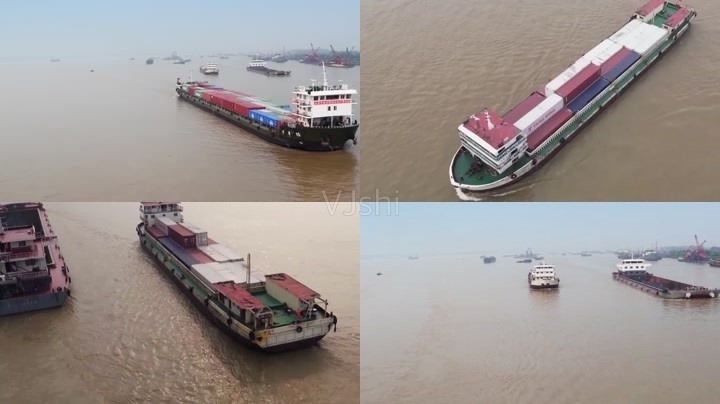Cargoship: (440, 1, 695, 201), (137, 199, 345, 352), (172, 65, 361, 153), (615, 246, 720, 303), (526, 261, 563, 291)
